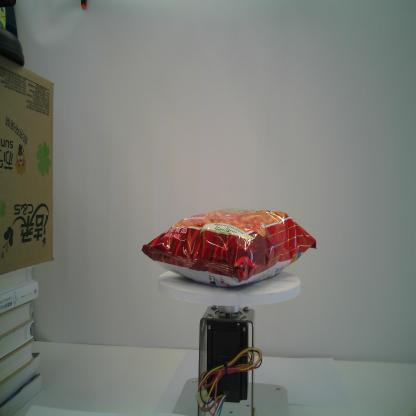Puffed Food: (141, 207, 317, 288)
